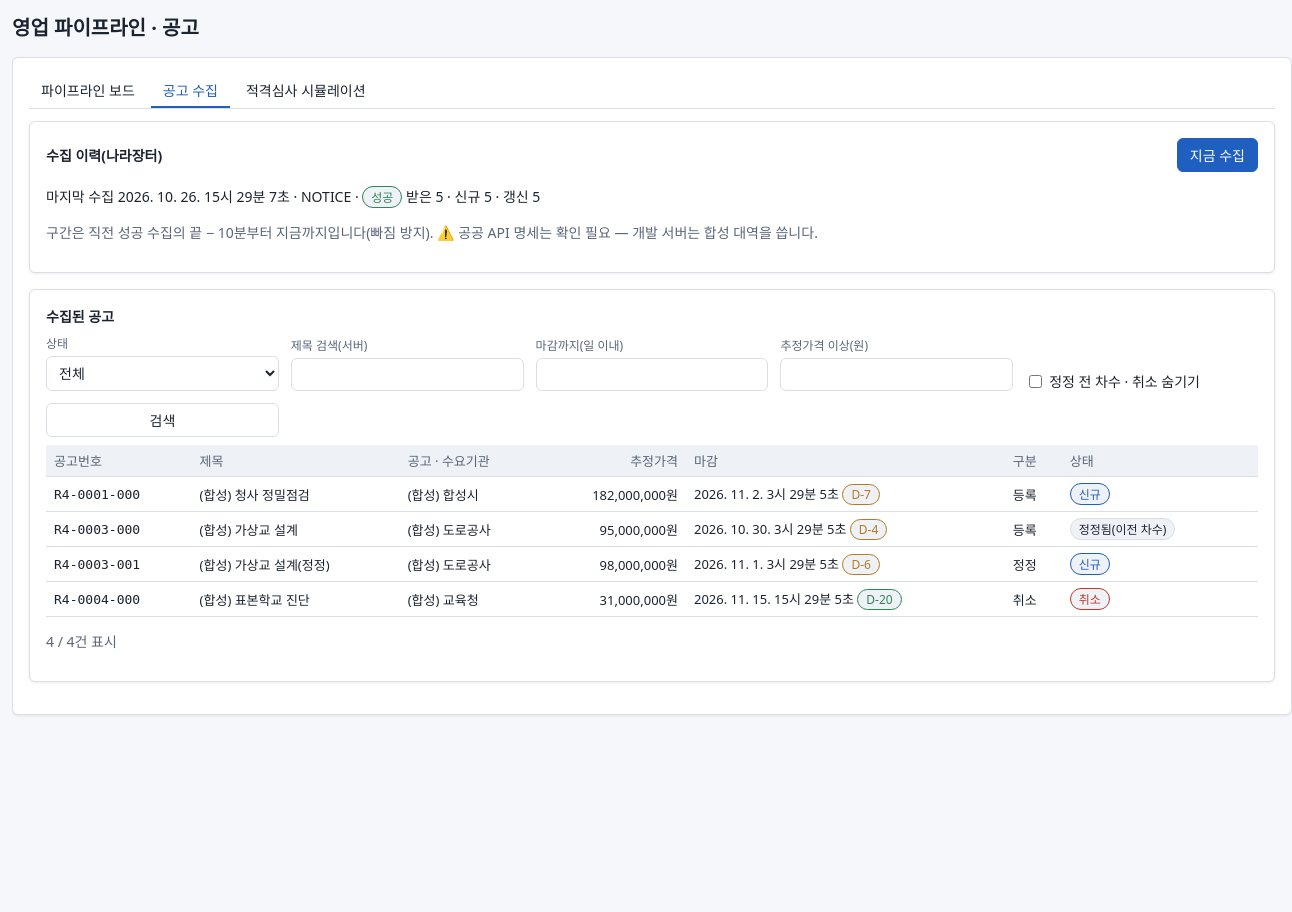
Test case: 공고 수집 › 목록 · 필터 · ADMIN 지금 수집
Later steps or results of the test are not shown.
Check: the text "(합성) 청사 정밀점검" is shown, box [192,476,400,512]
Check: the text "정정됨(이전 차수)" is shown, box [1070,518,1175,540]
Click the checkbox named "정정 · 취소 숨기기".
click(1036, 381)  # box [1029,374,1042,388]
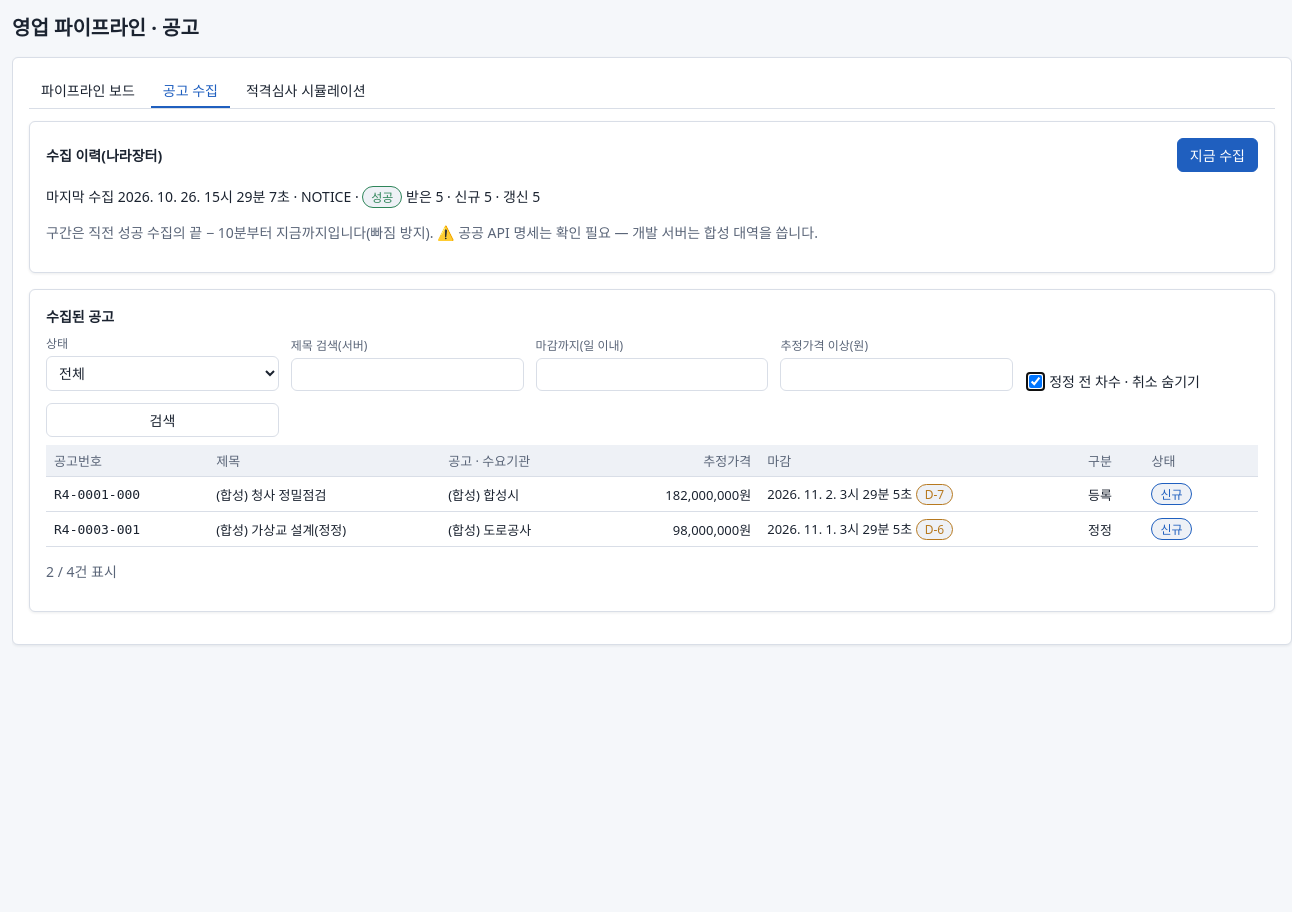
Check: the text "(합성) 표본학교 진단" is gone
Type "6" into the number field named "마감 일수".
click(652, 374); type("6")  # box [536,358,768,391]
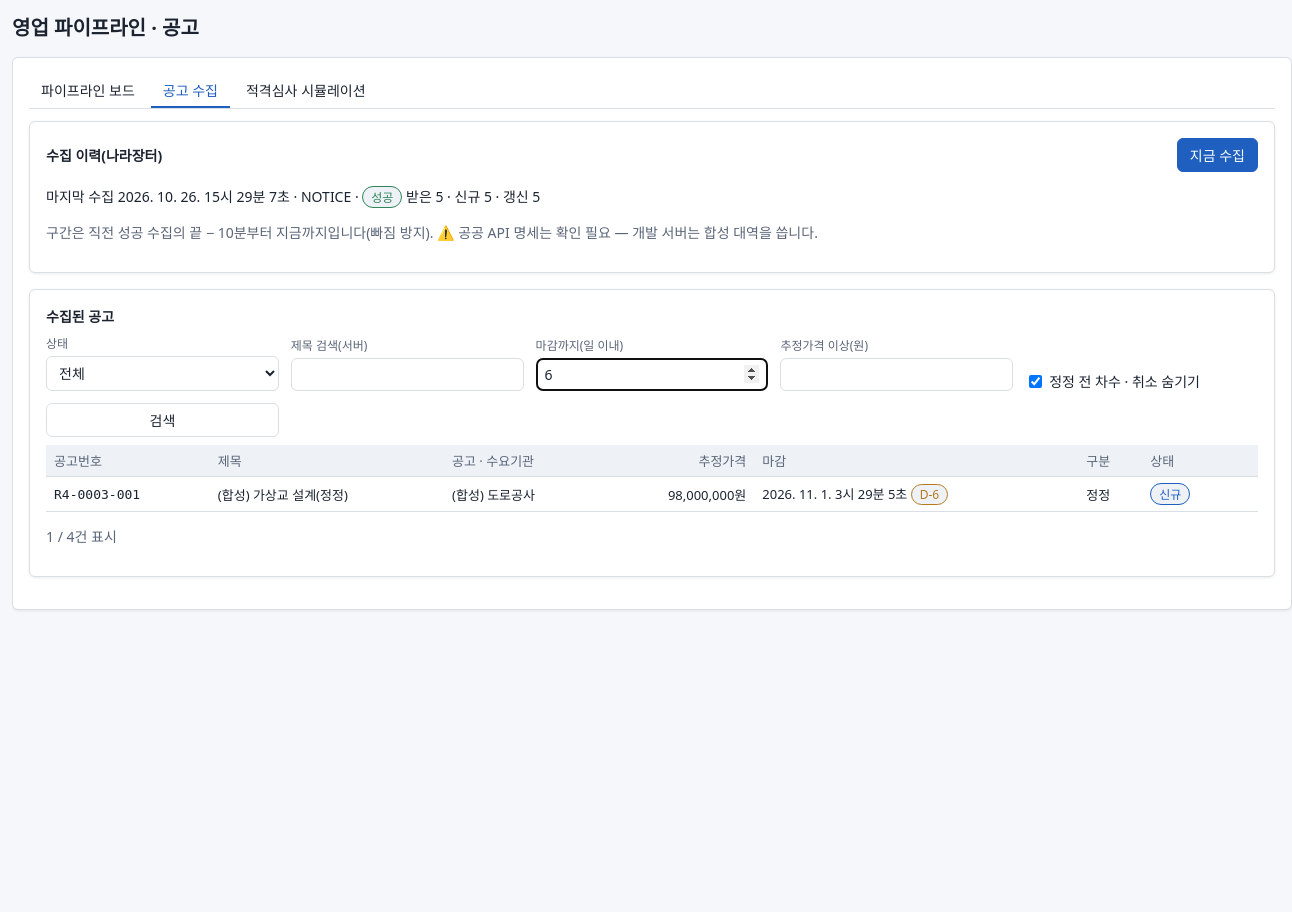
Check: the text "(합성) 가상교 설계(정정)" is shown, box [210,476,444,512]
Check: the text "(합성) 청사 정밀점검" is gone
